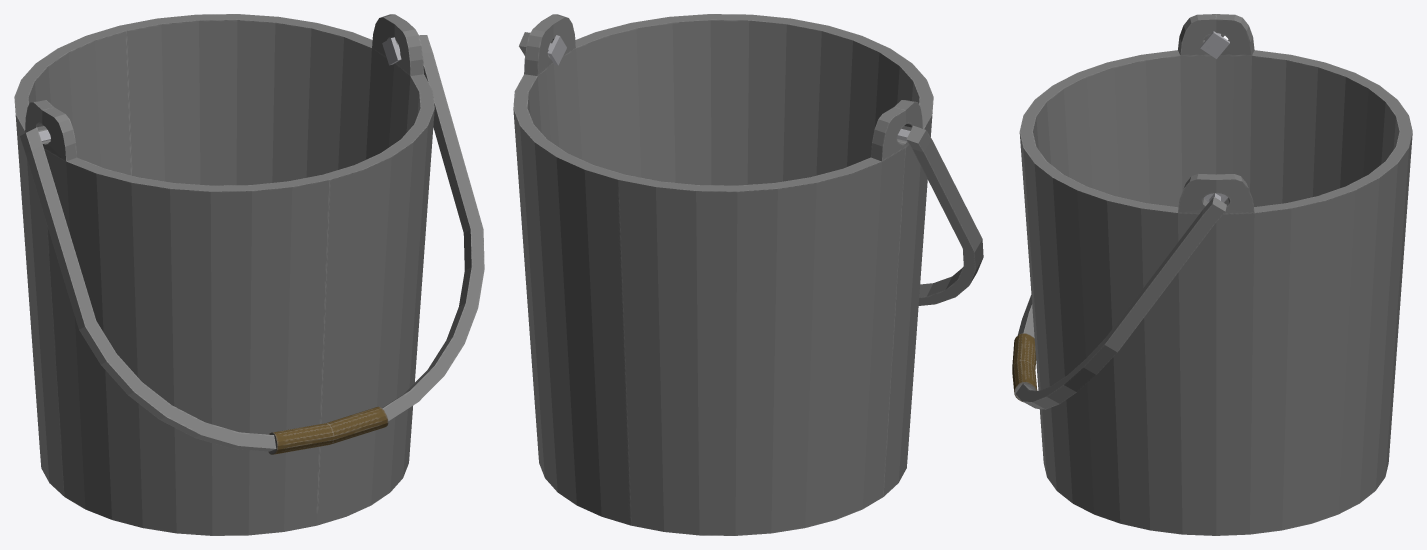
Rendered from Bucket.fbx.
3 views of the same model, side by side, from view 1: azimuth 30°, elevation 25°; view 2: azimuth 150°, elevation 25°; view 3: azimuth 270°, elevation 25° (orthographic). The views are drawn at different scales.
Visible parts, largest first — view 1: Bucket.Final; view 2: Bucket.Final; view 3: Bucket.Final.
Boxes of the visible parts, bbox=[...] form: Bucket.Final: bbox=[14, 14, 484, 535]; Bucket.Final: bbox=[513, 14, 983, 535]; Bucket.Final: bbox=[1012, 14, 1412, 535].
Size of the model in its own units: 237 by 221 by 219.
1 material, 1 textured.
